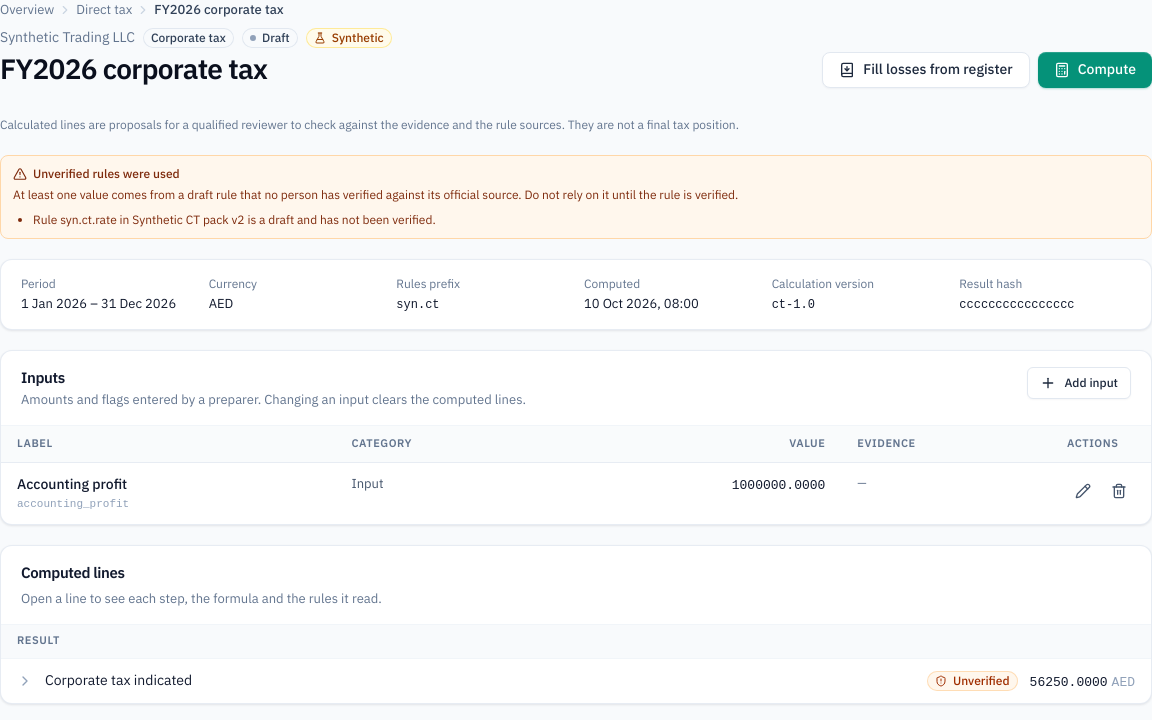
Test case: workpaper detail › shows the server's 422 message when an input is rejected
Click the button "Add input" at (1079, 383), box [1027,367,1131,399]
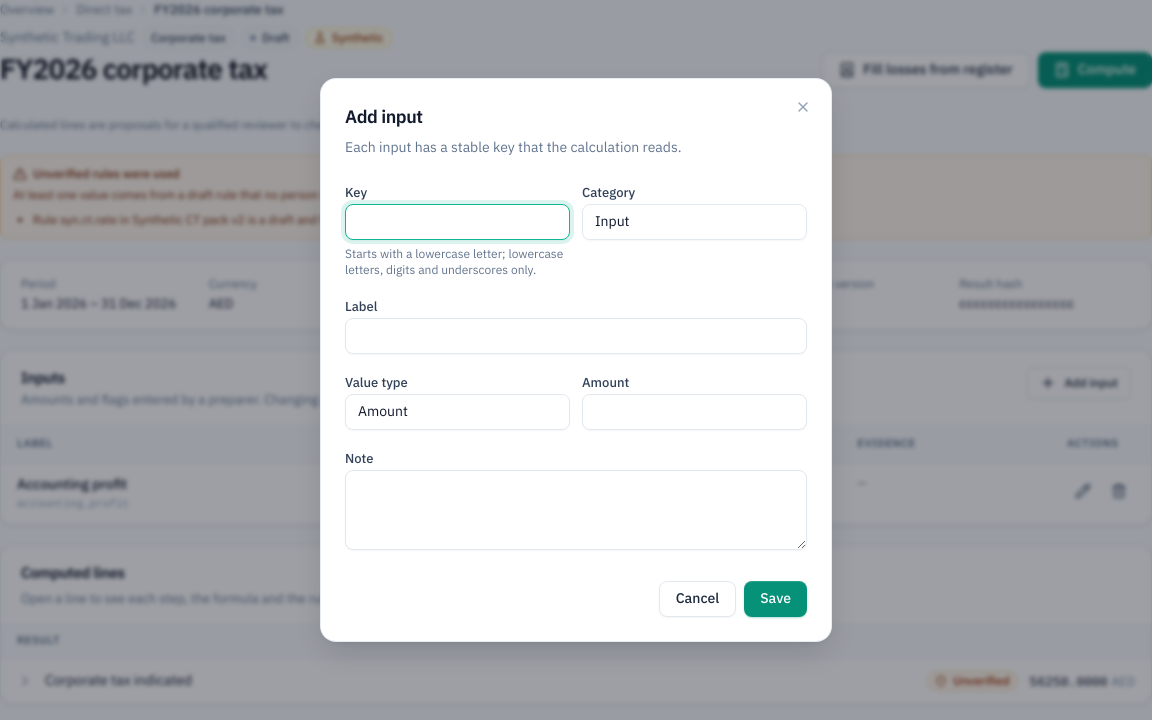
Type "exempt_dividends" into the field labelled "Key" at (458, 222), box [345,204,570,240]
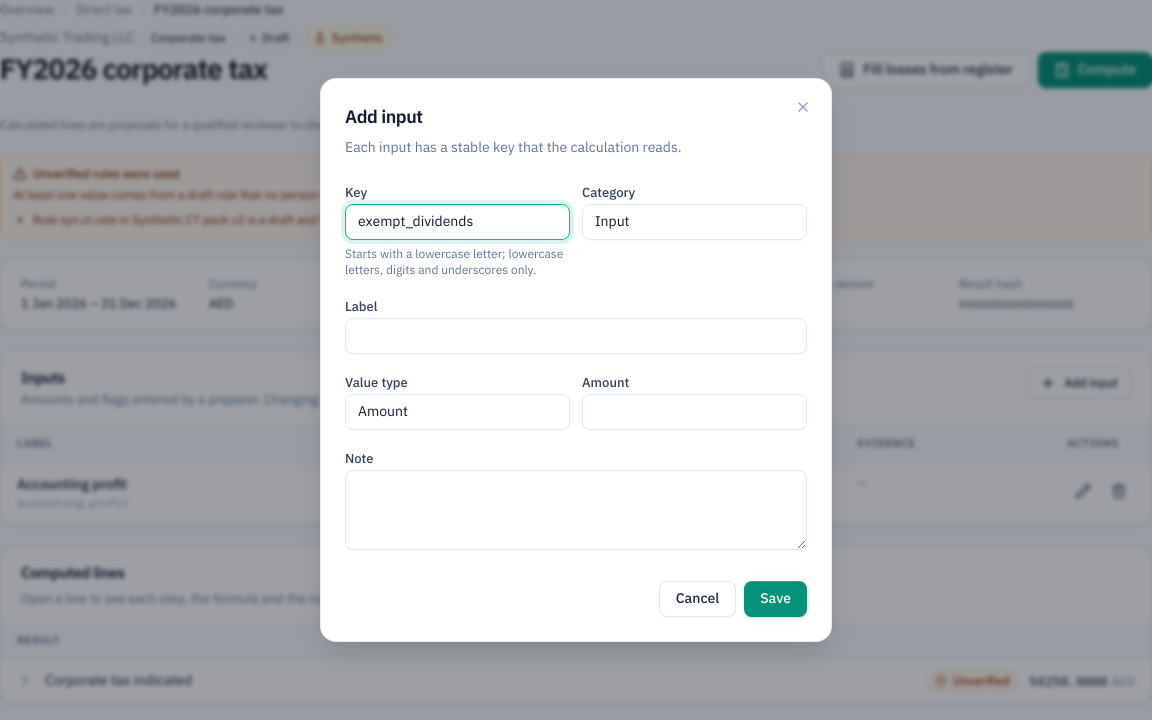
Select "Exempt income" in the dropdown labelled "Category" at (694, 222), box [582,204,807,240]
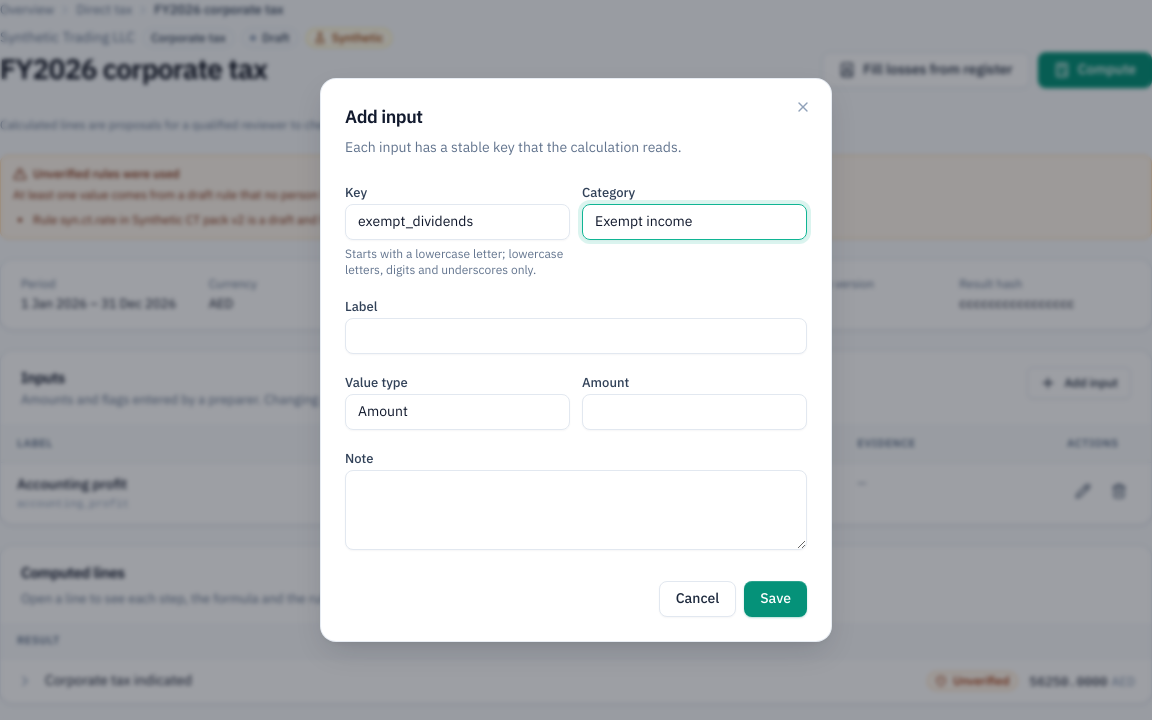
Type "Exempt dividends" into the field labelled "Label" at (576, 336), box [345,318,807,354]
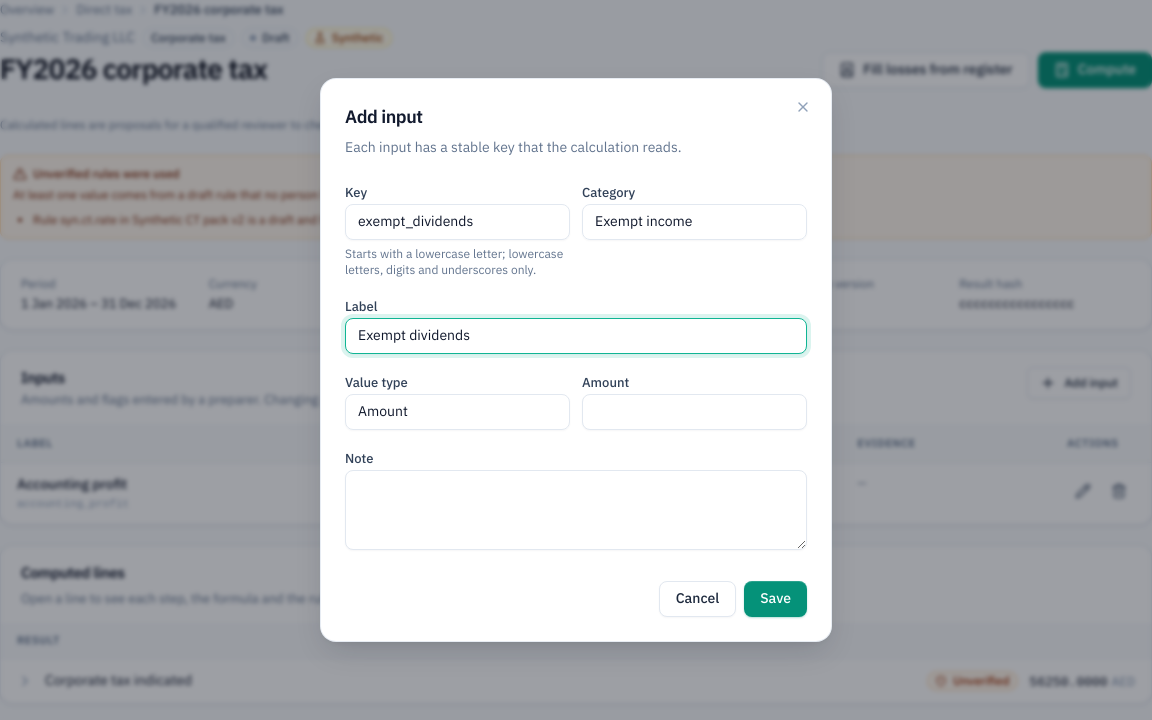
Type "-2500.50" into the field labelled "Amount" at (694, 412), box [582,394,807,430]
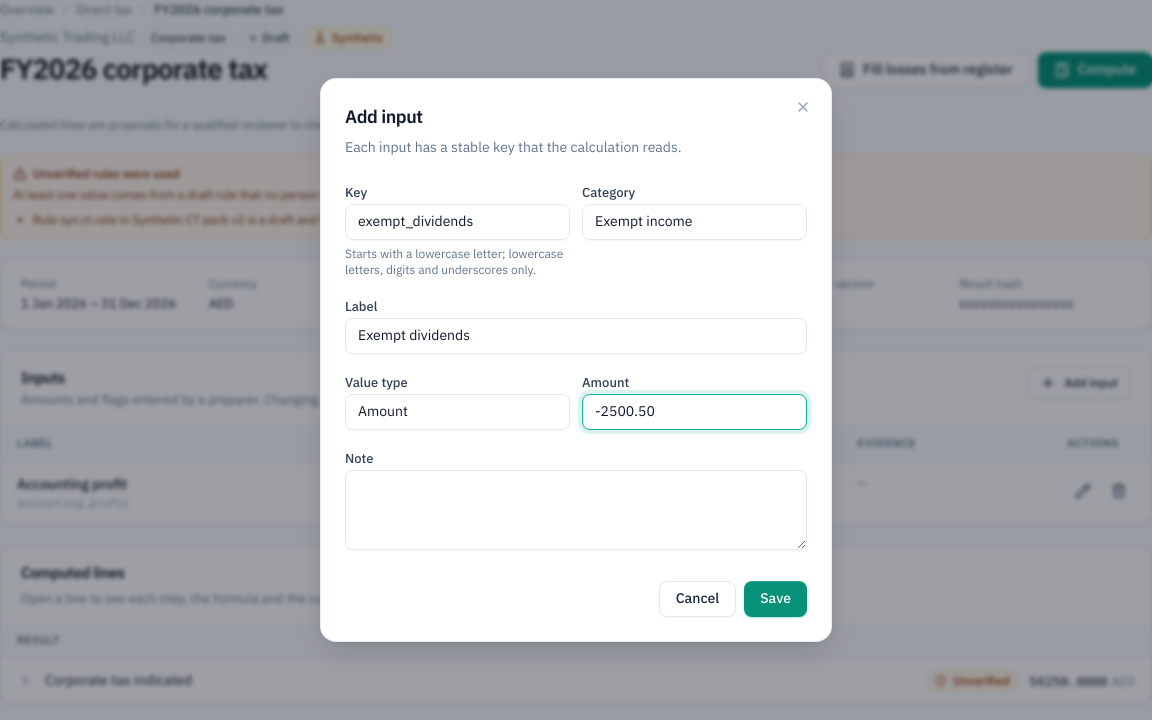
Click the button "Save" at (776, 599), box [744,581,807,617]
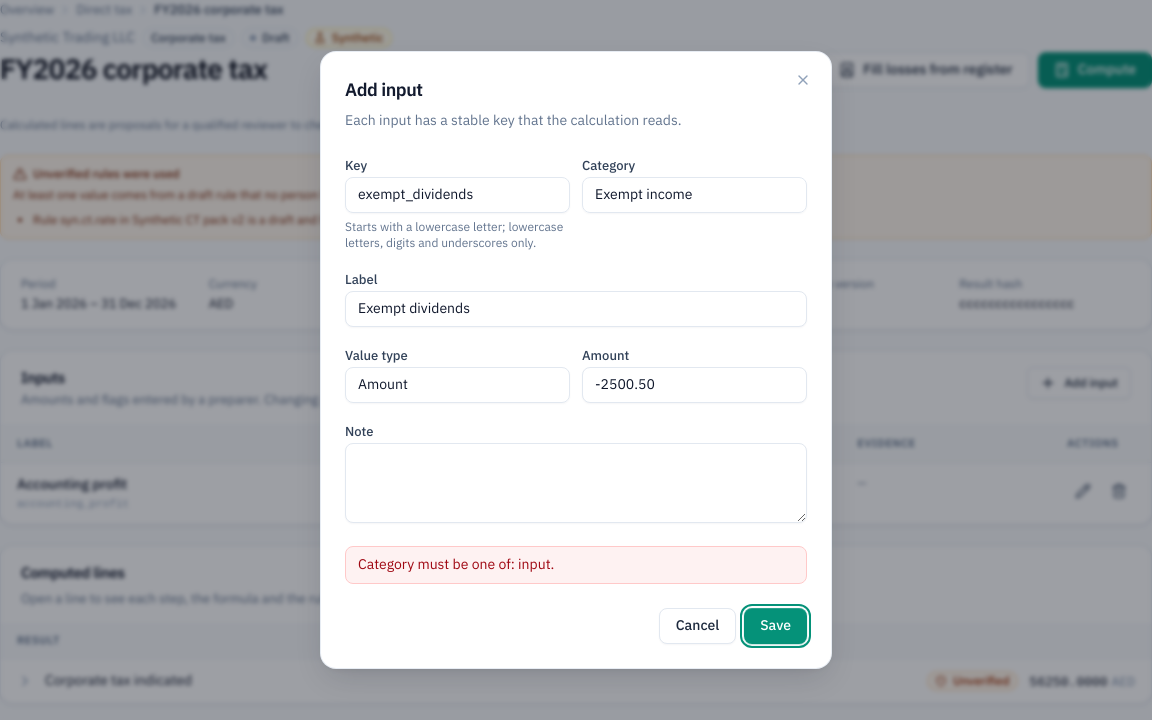
Expected: the text "Category must be one of: input." is shown, [345,546,807,584]
